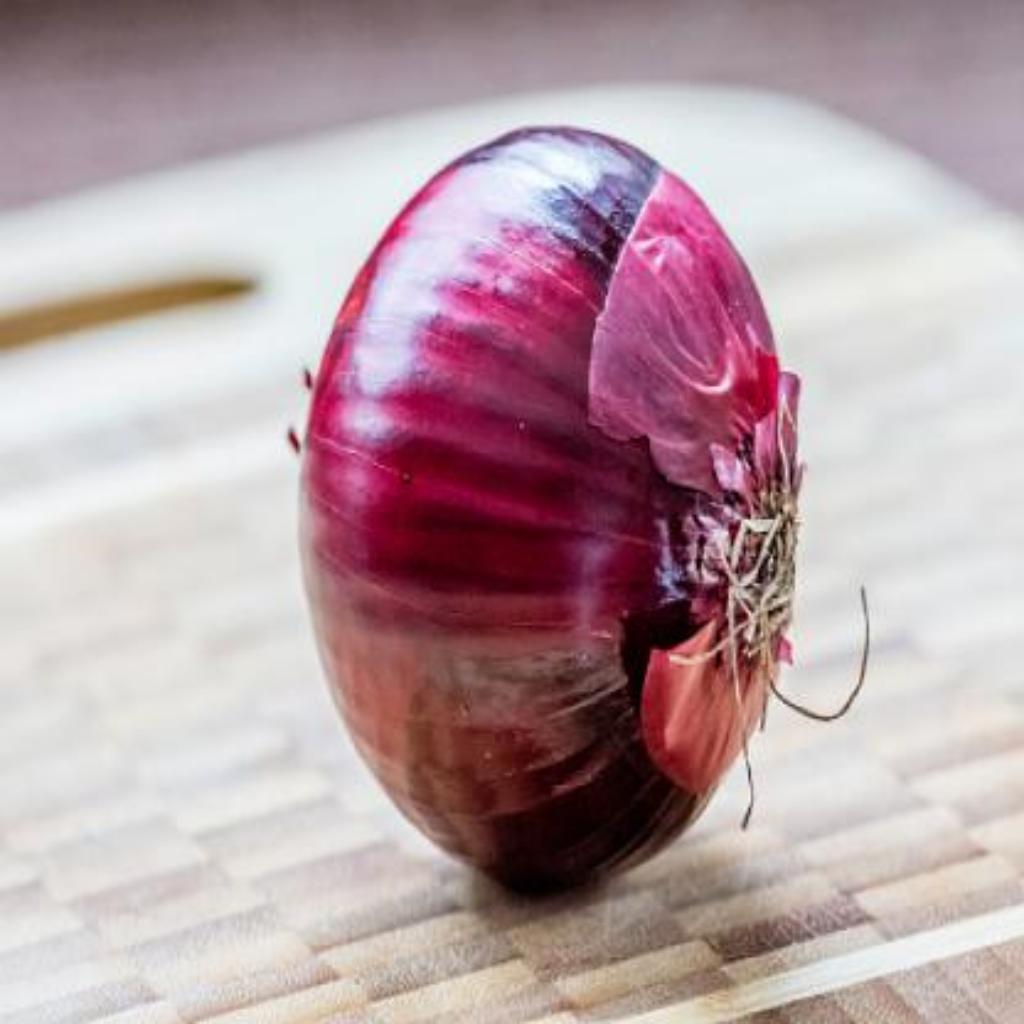Onion: (300, 126, 805, 892)
